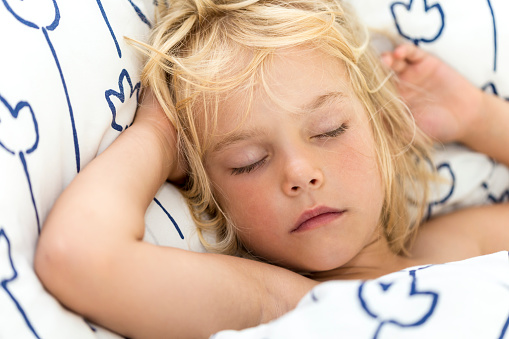deitado: (24, 8, 509, 334)
